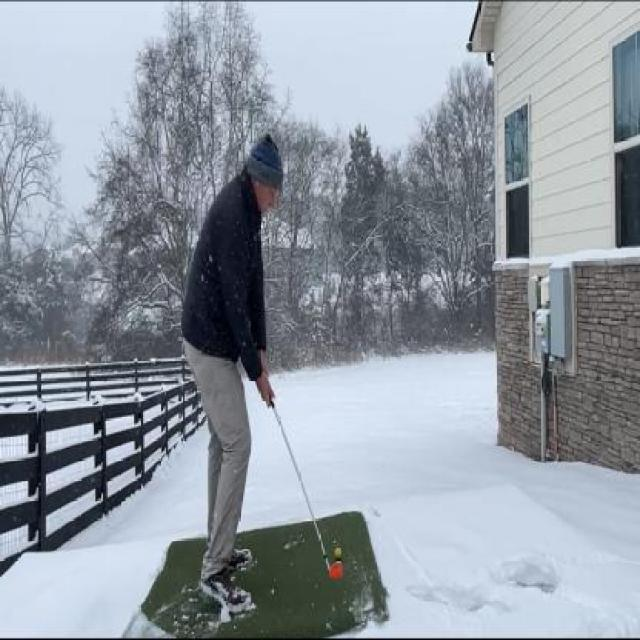club head: (326, 557, 345, 585)
